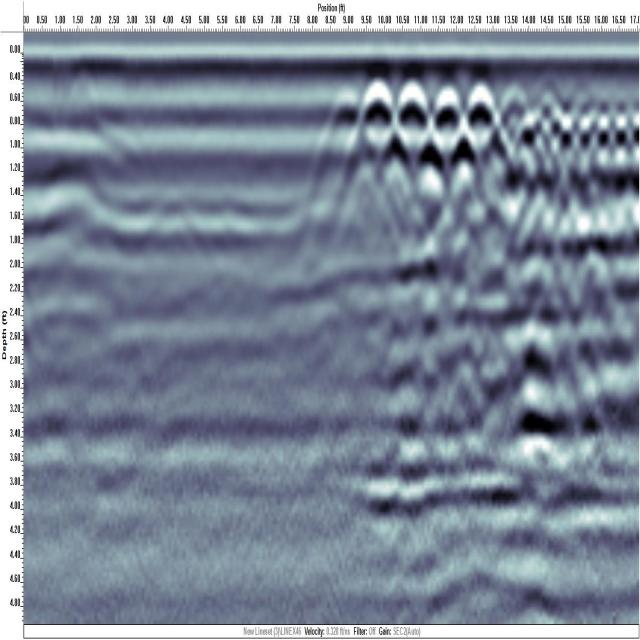hyperbola: (358, 68, 398, 165), (392, 73, 432, 158), (428, 70, 464, 152), (461, 69, 497, 142)
